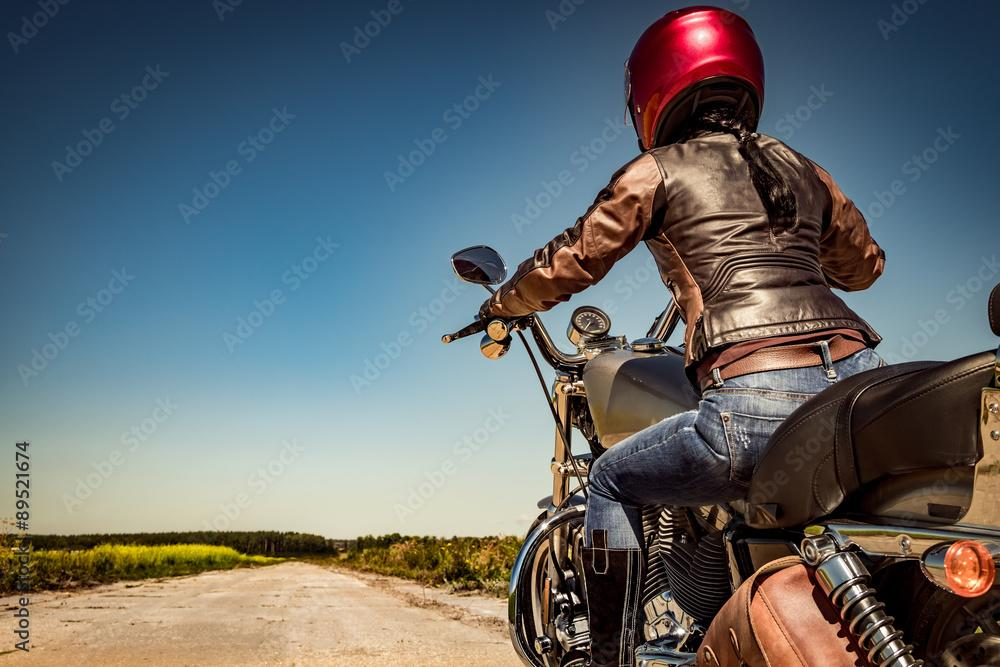helmet: (621, 4, 766, 162)
